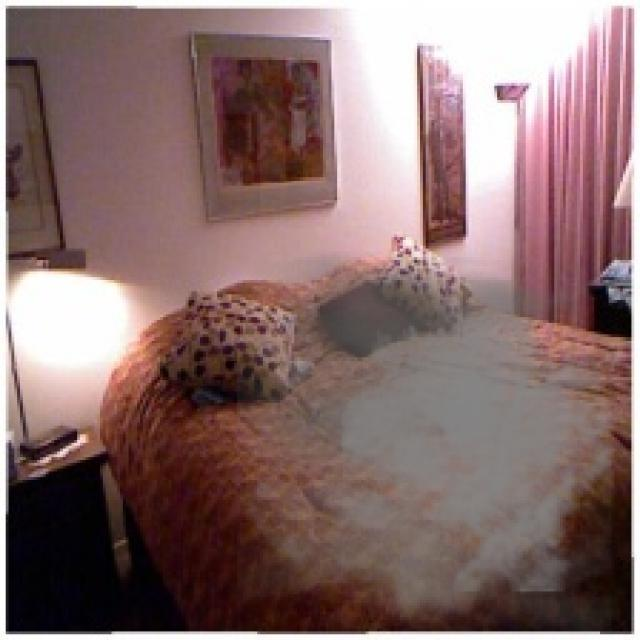Smoke: (237, 252, 626, 634)
